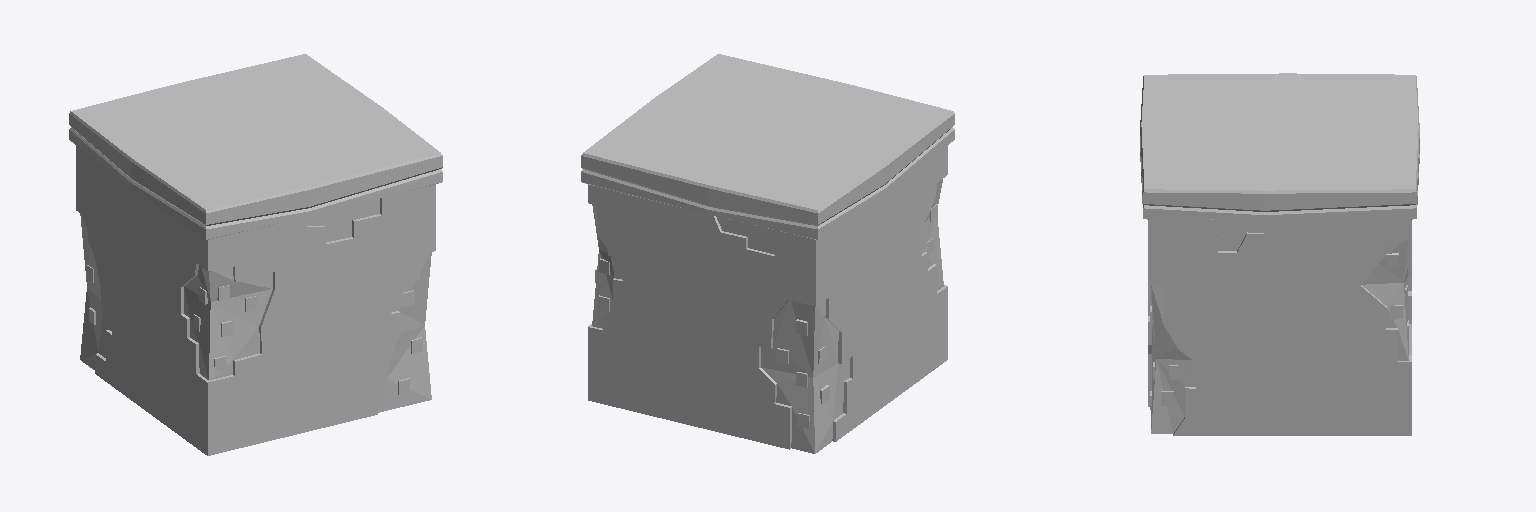
The model's file is Wall.obj.
3 views of the same model, side by side, from view 1: azimuth 30°, elevation 25°; view 2: azimuth 150°, elevation 25°; view 3: azimuth 270°, elevation 25° (orthographic).
Parts seen in each view (by area): view 1: SM_Bld_Shanty_Base_01_Mesh; view 2: SM_Bld_Shanty_Base_01_Mesh; view 3: SM_Bld_Shanty_Base_01_Mesh.
Boxes of the visible parts, <box> form: SM_Bld_Shanty_Base_01_Mesh: <box>69,54,442,455</box>; SM_Bld_Shanty_Base_01_Mesh: <box>581,54,954,453</box>; SM_Bld_Shanty_Base_01_Mesh: <box>1140,73,1419,435</box>.
Size of the model in its own units: 1.53 by 1.5 by 1.53.